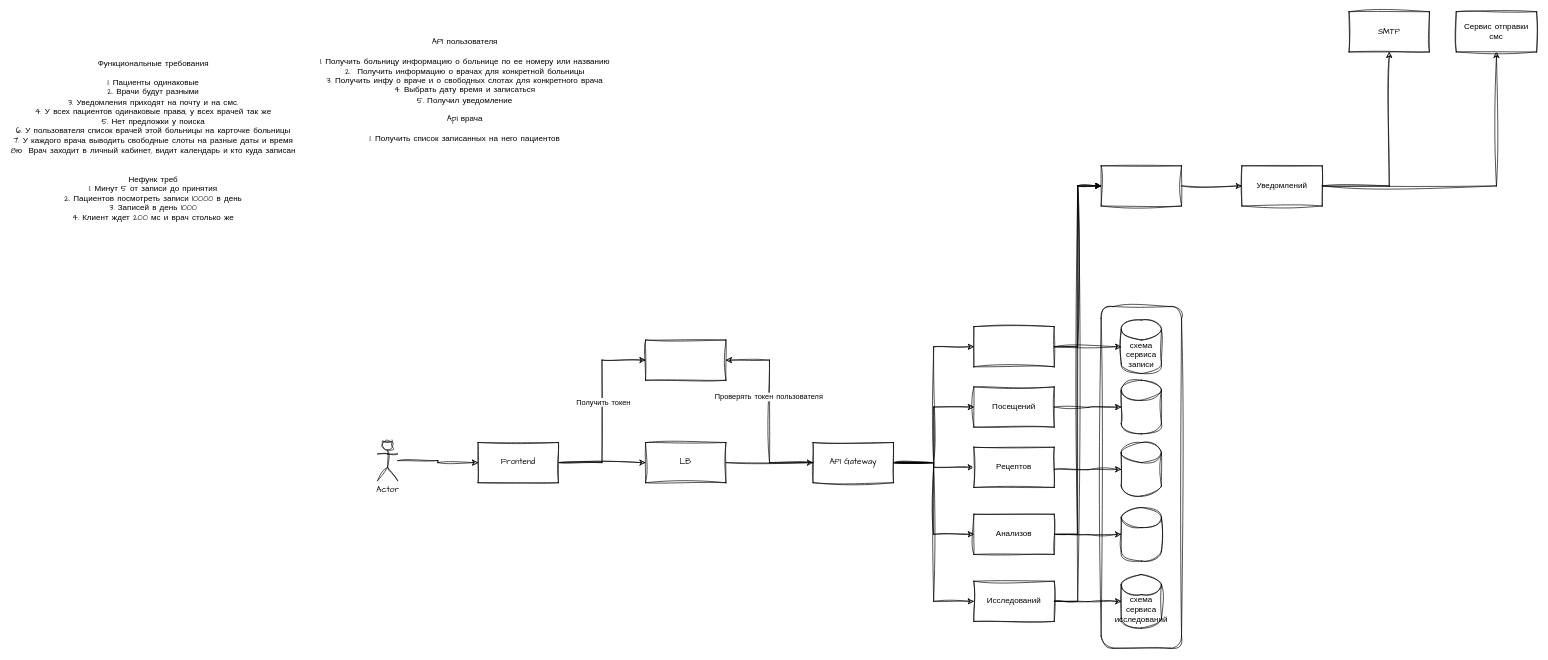
Image size: 1548x660. Some labels were removed from this diagram. The shapes that lost their labels are listed below. From the top down, each one's centre as x and y in pixels, then its label:
At pixel 1141 185: "Брокер".
At pixel 685 359: "Auth service".
At pixel 1013 346: "Записи пациентов".
At pixel 1141 407: "схема сервиса посещение".
At pixel 1141 469: "схема сервиса рецептов".
At pixel 1141 534: "схема сервиса анализов".
